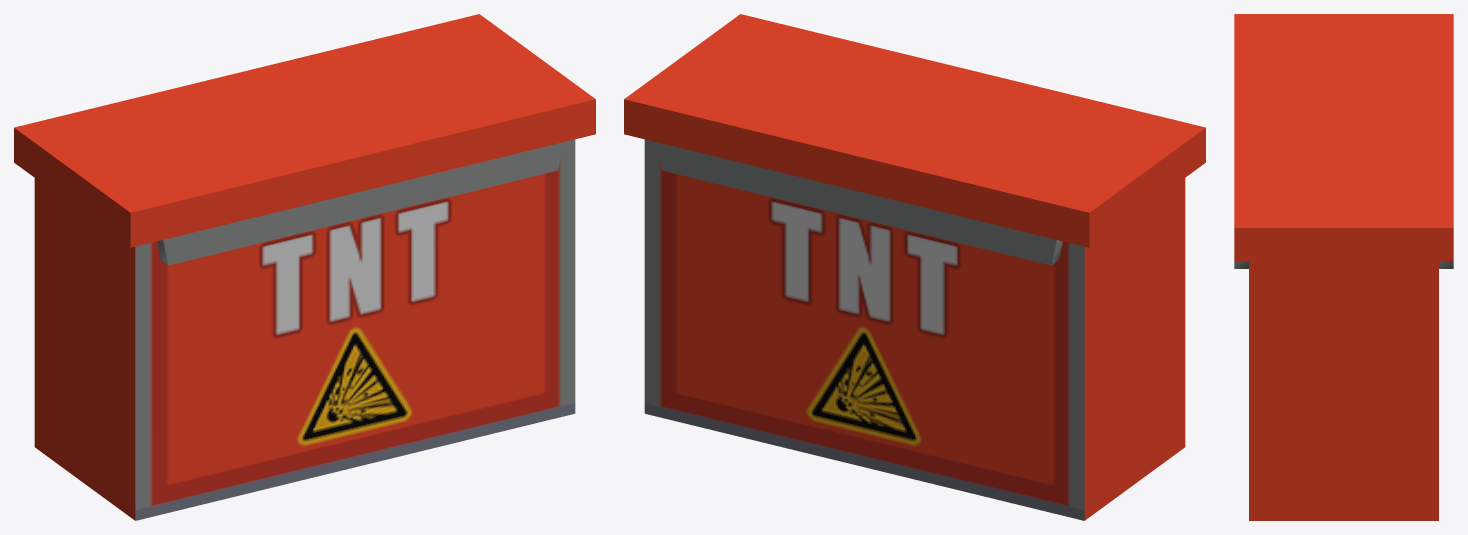
Rendered from role_tntboombox_01.FBX.
The picture shows the model from 3 angles, left to right: view 1: azimuth 30°, elevation 25°; view 2: azimuth 150°, elevation 25°; view 3: azimuth 270°, elevation 25°; orthographic projection. The views are drawn at different scales.
Visible parts, largest first — view 1: role_tntboombox_01, role_tntboombox_01_gai; view 2: role_tntboombox_01, role_tntboombox_01_gai; view 3: role_tntboombox_01_gai, role_tntboombox_01.
Part boxes in pixels (box(x1,y1,x2,y2)): role_tntboombox_01: box(34, 139, 575, 520); role_tntboombox_01_gai: box(14, 14, 595, 265); role_tntboombox_01: box(644, 139, 1185, 520); role_tntboombox_01_gai: box(624, 14, 1205, 265); role_tntboombox_01_gai: box(1234, 14, 1453, 268); role_tntboombox_01: box(1249, 261, 1438, 520).
Bounding box in the file's own units: 13.14 × 8.55 × 5.7.
1 material, 1 textured.
